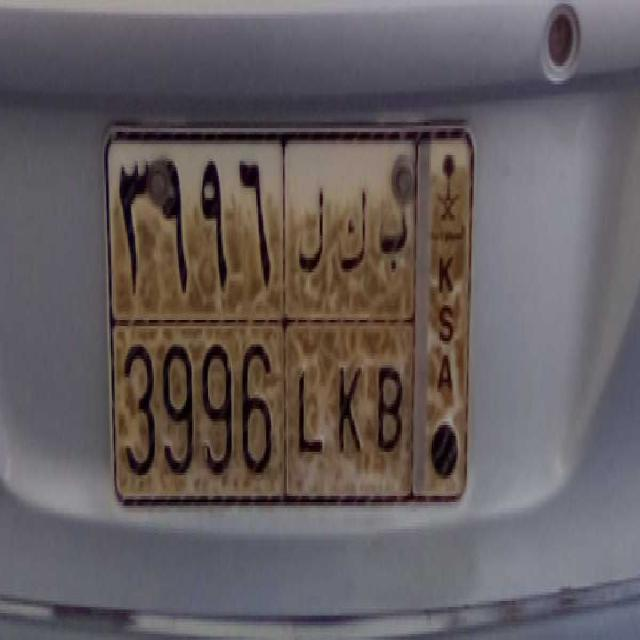license_plate: (109, 313, 416, 503)
